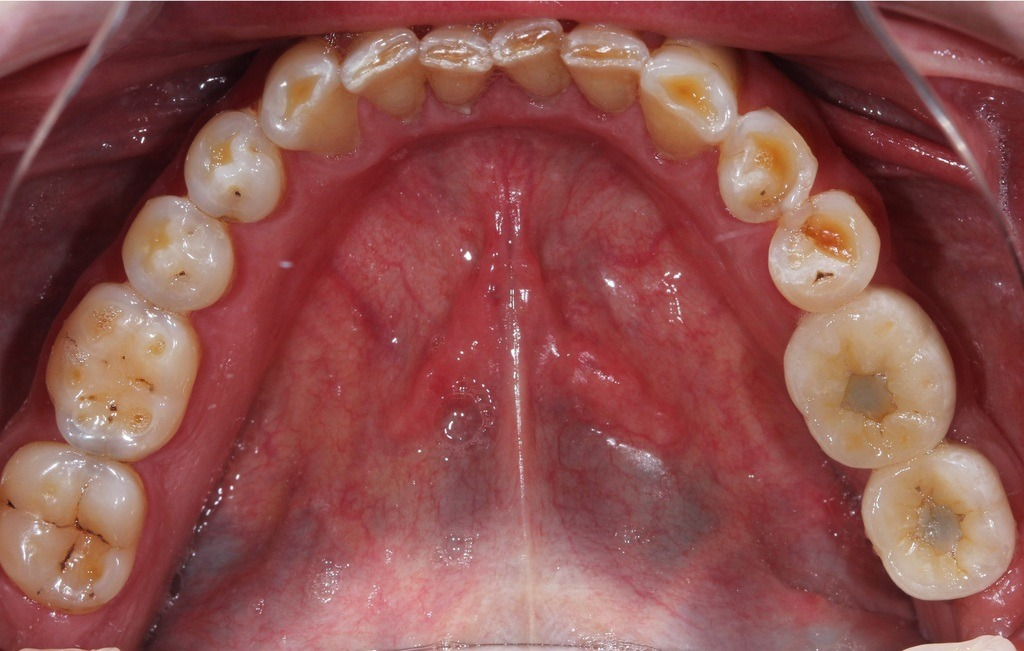UL1BC_decay: (728, 114, 808, 226)
UL1M_decay: (787, 313, 949, 463)
UL2BC_decay: (762, 201, 878, 301)
UL2M_decay: (871, 467, 1010, 593)
ULCI_decay: (498, 21, 563, 96)
ULC_decay: (643, 45, 735, 162)
ULLI_decay: (564, 27, 647, 112)
UR1BC_decay: (182, 116, 288, 225)
UR1M_decay: (57, 288, 197, 451)
UR2BC_decay: (121, 198, 239, 305)
UR2M_decay: (2, 457, 149, 599)
URCI_decay: (421, 29, 491, 99)
URC_decay: (258, 52, 355, 154)
URLI_decay: (350, 36, 425, 113)
